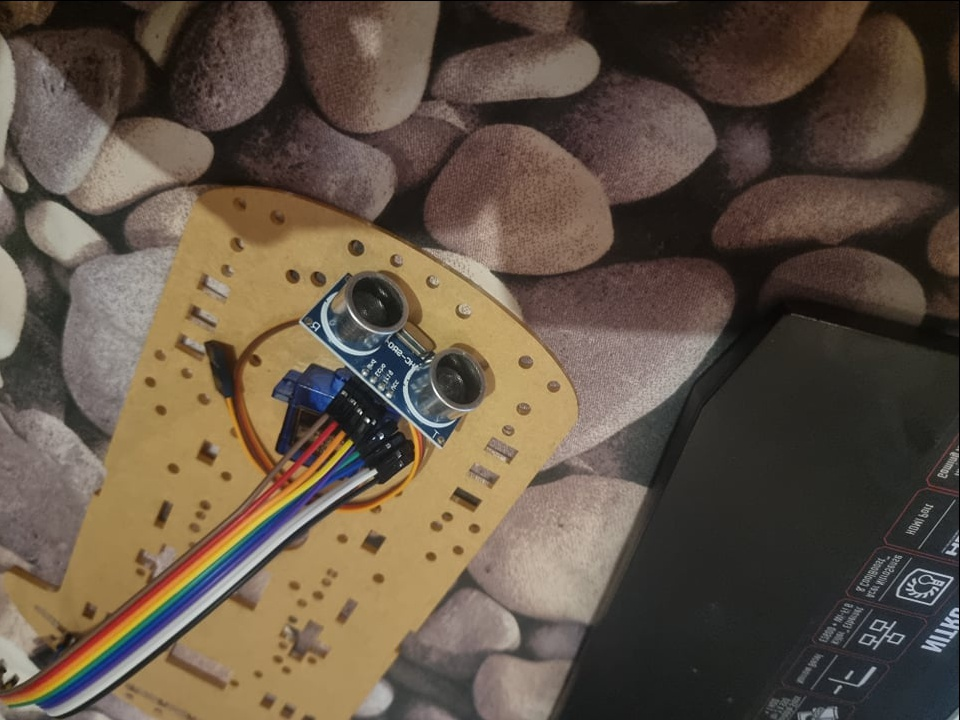SENSOR: (299, 265, 493, 440)
